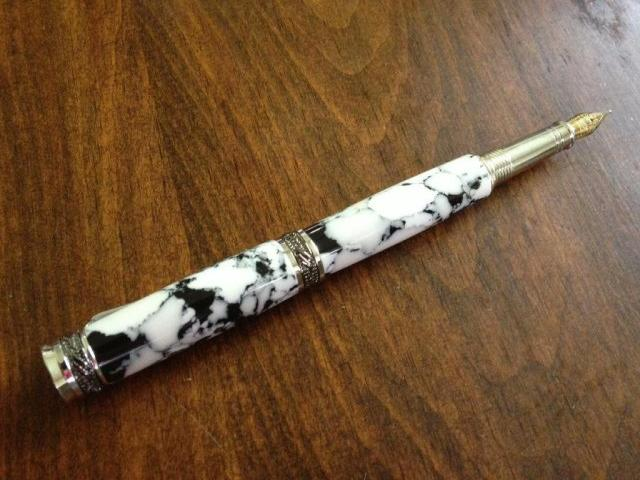PEN: (17, 99, 640, 420)
